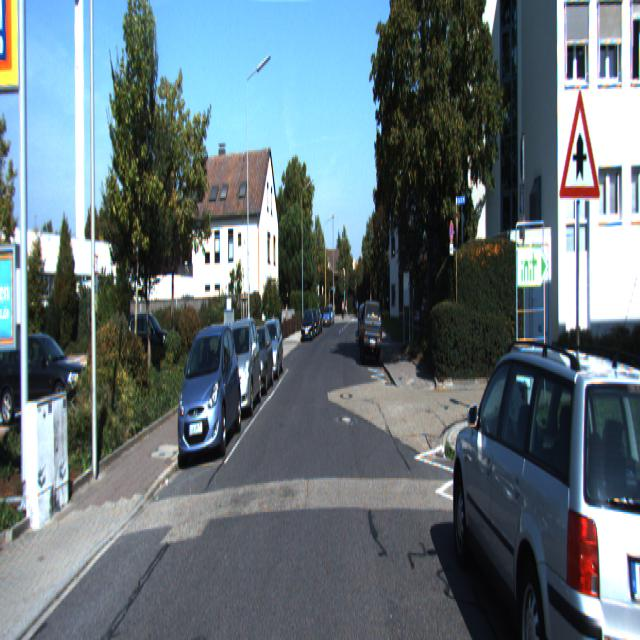Car: (450, 326, 640, 638), (173, 320, 243, 463), (0, 330, 93, 429), (216, 315, 262, 422), (241, 323, 274, 397), (256, 316, 284, 382), (359, 299, 384, 367)
